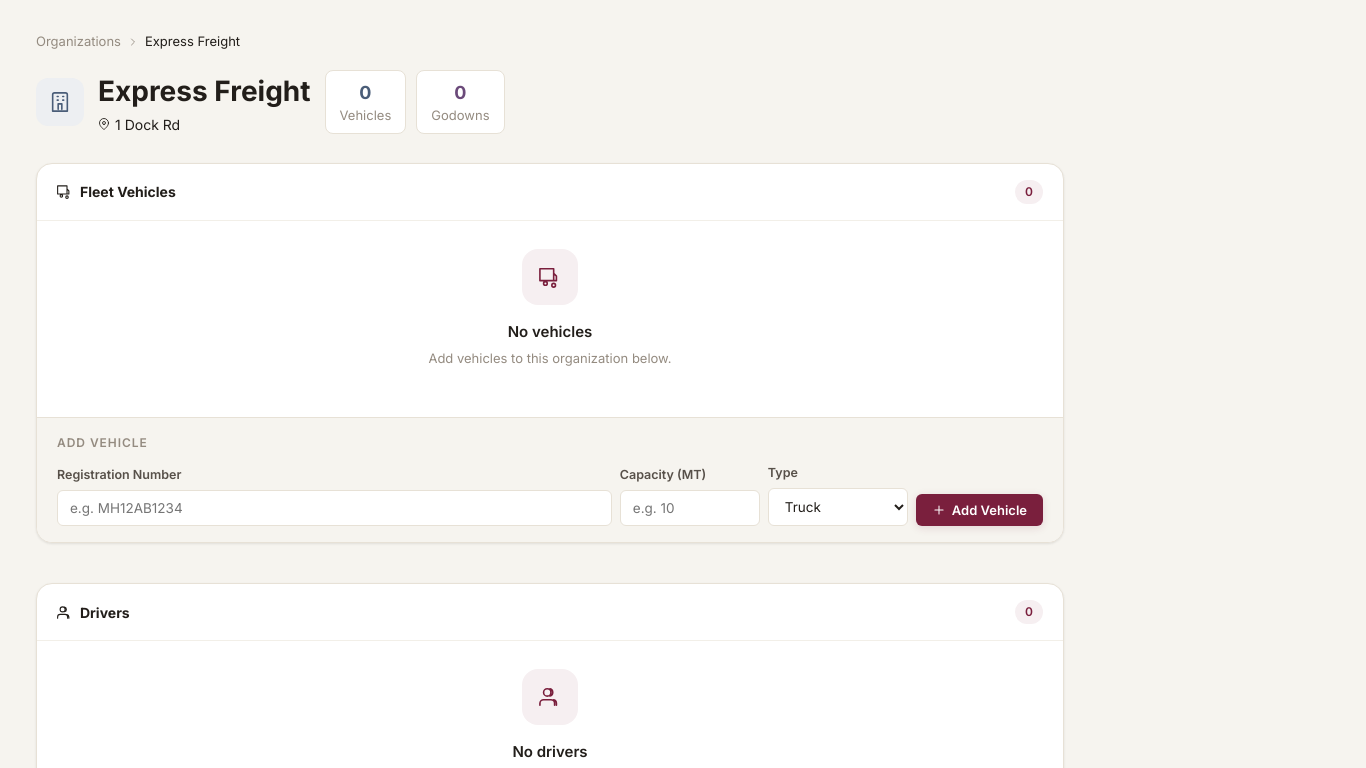
Test case: OrganizationDetail page › adds a vehicle with a numeric capacity and reloads the org
Expected: the heading "No vehicles" is shown, [508,322,592,340]
Step 1. Type "MH09XY9999" into the field labelled "Registration Number" → coordinates (334, 508), box [57,490,612,526]
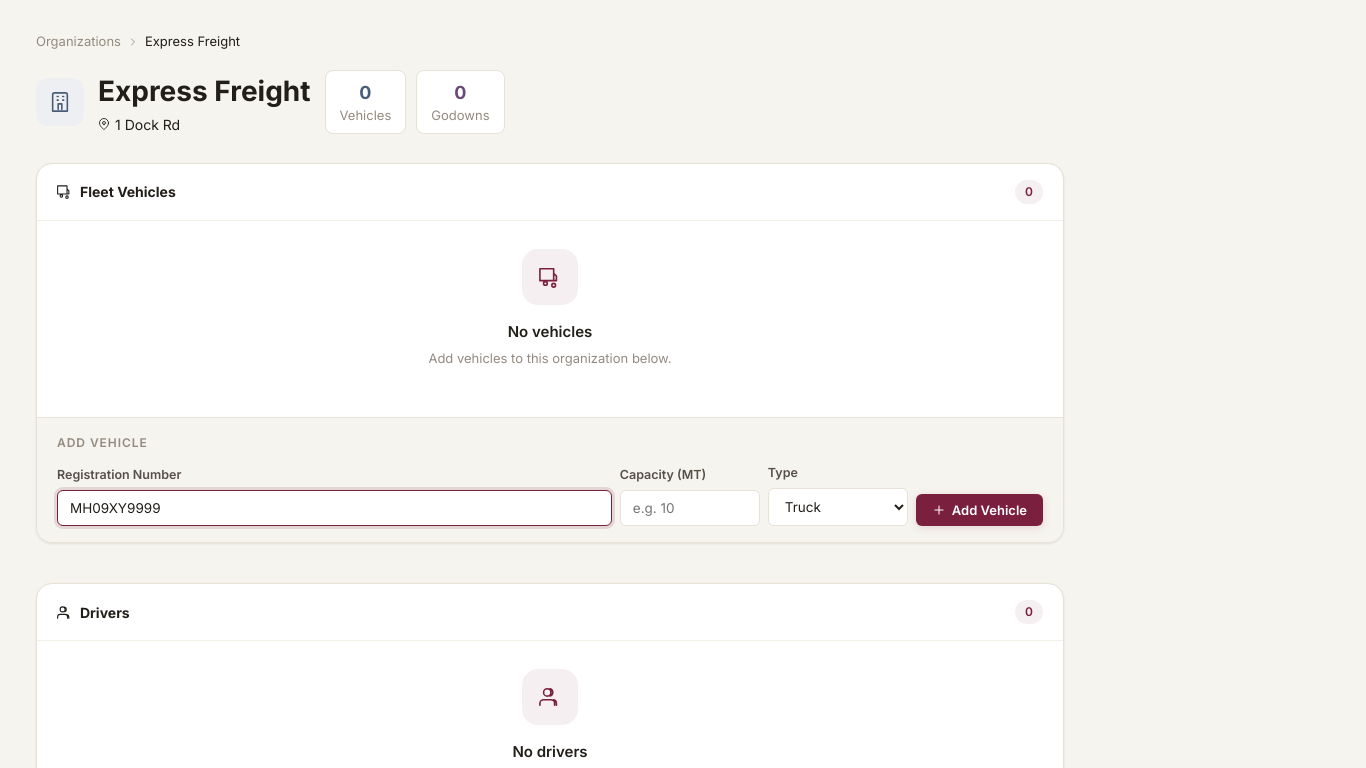
Step 2. Type "15" into the number field labelled "Capacity (MT)" → coordinates (690, 508), box [620,490,760,526]
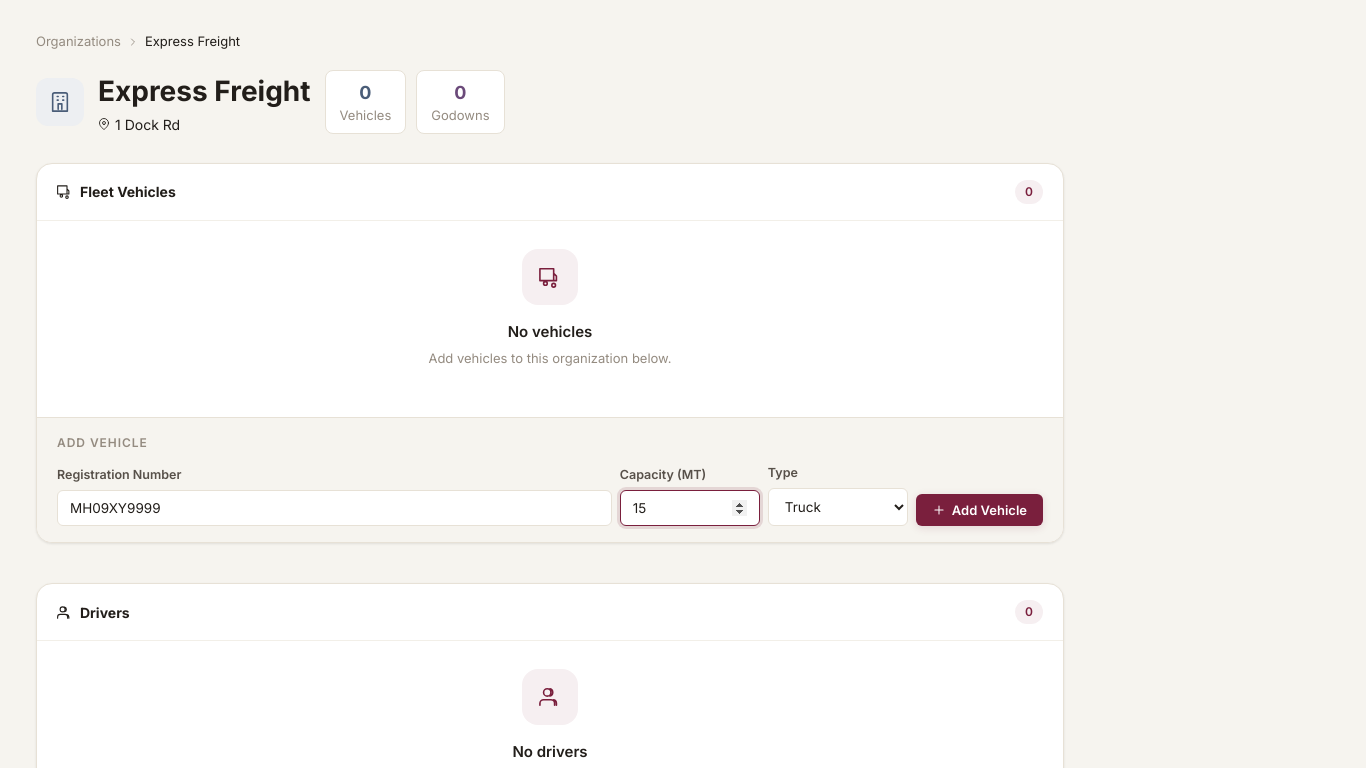
Step 3. Select "Tipper" in the dropdown labelled "Type" → coordinates (838, 507), box [768,488,908,526]
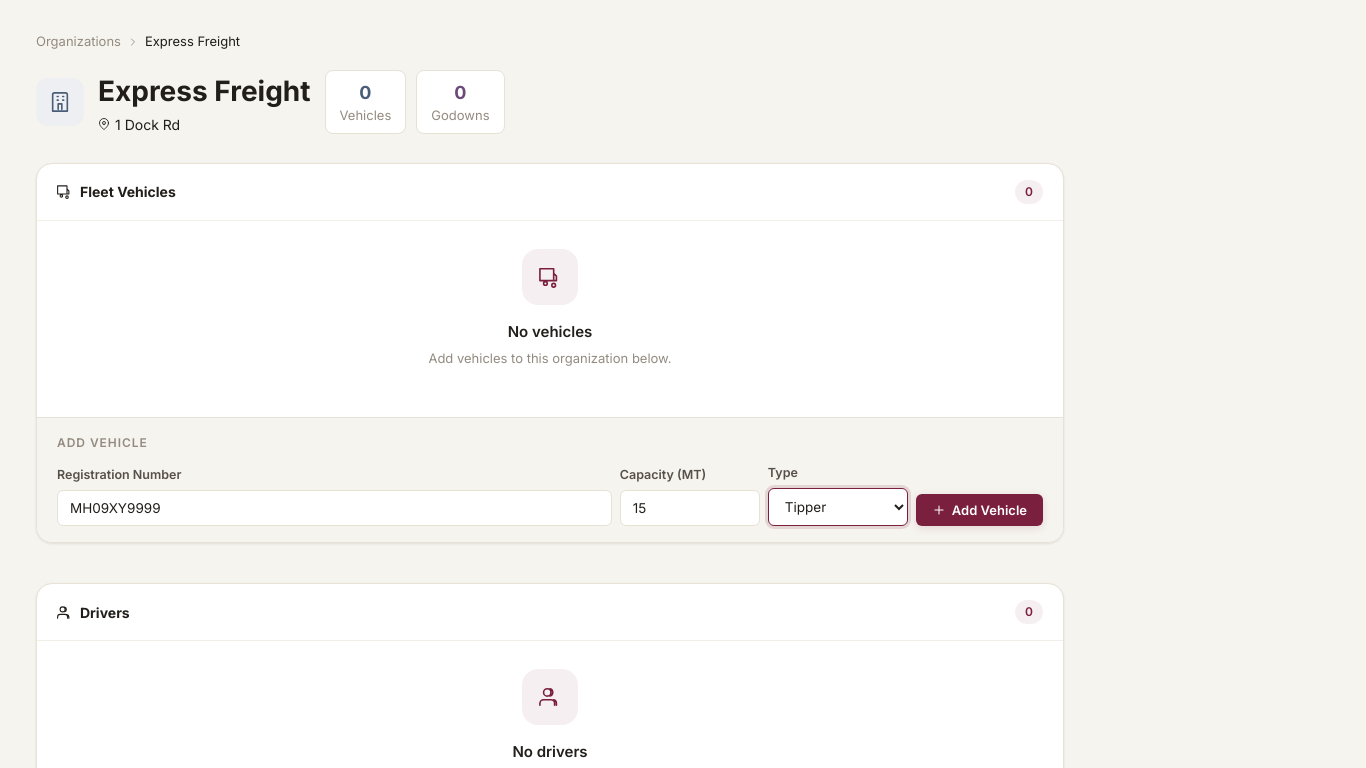
Step 4. Click the button "Add Vehicle" → coordinates (979, 510), box [916,494,1043,526]
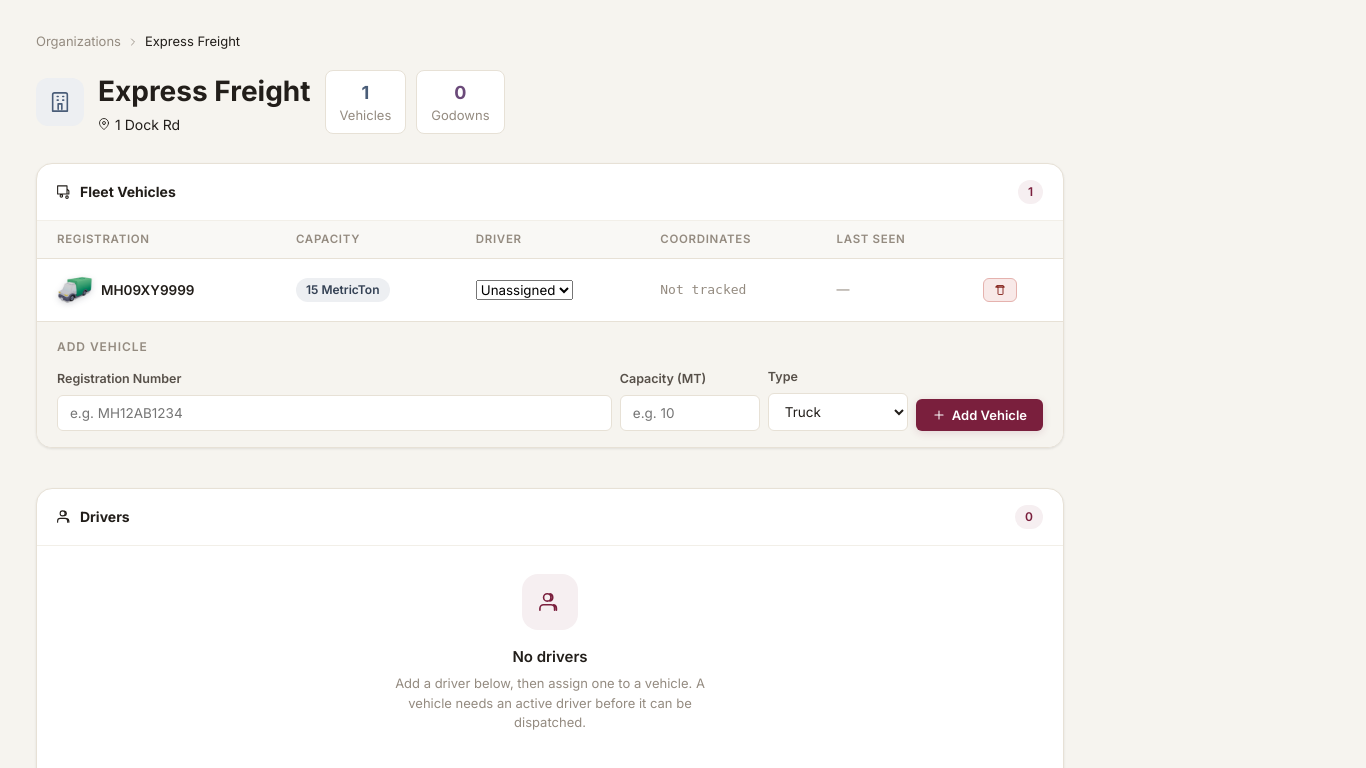
Expected: the text "MH09XY9999" is shown, [101,280,194,300]
